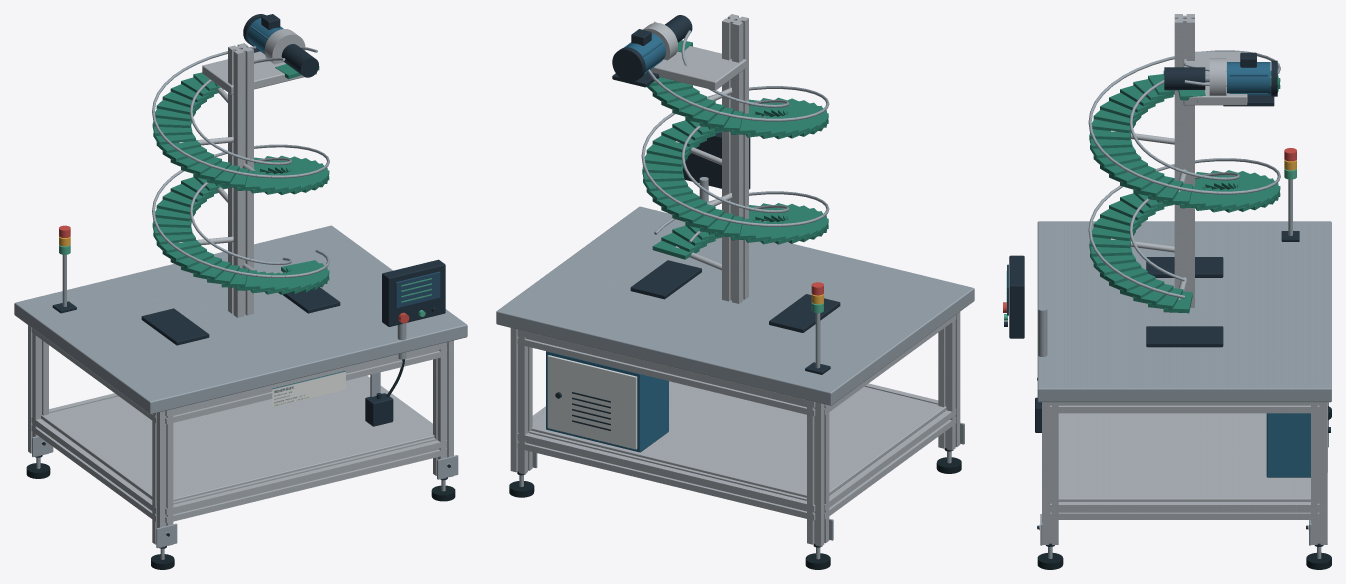
Rendered from spiral-conveyor-cell.glb.
3 renders of one model, left to right at view 1: azimuth 30°, elevation 25°; view 2: azimuth 150°, elevation 25°; view 3: azimuth 270°, elevation 25°, orthographic. The views are drawn at different scales.
Visible parts, largest first — view 1: ClosedMachineBed_40, LowerShelf_41, SlottedExtrusion_34, SlottedExtrusion_71, SlottedExtrusion_35, SlottedExtrusion_11, SlottedExtrusion_36, SlottedExtrusion_27, ConsoleBack_52, SlottedExtrusion_3, OriginalNameplate_65, DriveBridge_311 (+7 smaller); view 2: ClosedMachineBed_40, LowerShelf_41, BackDoor_43, SlottedExtrusion_32, SlottedExtrusion_71, SlottedExtrusion_33, SlottedExtrusion_3, SlottedExtrusion_19, Cabinet_42, SlottedExtrusion_36, SlottedExtrusion_11, DriveBridge_311 (+6 smaller); view 3: ClosedMachineBed_40, LowerShelf_41, SlottedExtrusion_38, SlottedExtrusion_71, SlottedExtrusion_39, Cabinet_42, SlottedExtrusion_19, SlottedExtrusion_27, SpiralBaseFoot_73, DriveBridge_311, ConsoleBack_52, MotorBody_300 (+4 smaller).
Part boxes in pixels (x1,y1,x2,y2): ClosedMachineBed_40: [14, 225, 467, 414]; LowerShelf_41: [41, 377, 434, 501]; SlottedExtrusion_34: [165, 438, 447, 523]; SlottedExtrusion_71: [228, 43, 253, 317]; SlottedExtrusion_35: [165, 342, 447, 424]; SlottedExtrusion_11: [152, 409, 173, 547]; SlottedExtrusion_36: [31, 417, 156, 521]; SlottedExtrusion_27: [433, 340, 453, 479]; ConsoleBack_52: [382, 259, 445, 326]; SlottedExtrusion_3: [28, 325, 48, 456]; OriginalNameplate_65: [272, 370, 345, 407]; DriveBridge_311: [202, 51, 316, 94]; ClosedMachineBed_40: [496, 206, 974, 405]; LowerShelf_41: [531, 381, 946, 497]; BackDoor_43: [547, 355, 637, 449]; SlottedExtrusion_32: [517, 430, 815, 520]; SlottedExtrusion_71: [722, 14, 748, 303]; SlottedExtrusion_33: [517, 329, 815, 416]; SlottedExtrusion_3: [807, 400, 829, 546]; SlottedExtrusion_19: [510, 328, 532, 474]; Cabinet_42: [546, 351, 668, 452]; SlottedExtrusion_36: [824, 409, 956, 519]; SlottedExtrusion_11: [938, 312, 960, 450]; DriveBridge_311: [650, 46, 746, 90]; ClosedMachineBed_40: [1037, 221, 1331, 402]; LowerShelf_41: [1058, 413, 1310, 501]; SlottedExtrusion_38: [1050, 502, 1319, 519]; SlottedExtrusion_71: [1174, 14, 1194, 307]; SlottedExtrusion_39: [1050, 402, 1319, 413]; Cabinet_42: [1266, 413, 1310, 477]; SlottedExtrusion_19: [1311, 402, 1327, 544]; SlottedExtrusion_27: [1042, 402, 1058, 544]; SpiralBaseFoot_73: [1146, 326, 1223, 347]; DriveBridge_311: [1183, 51, 1247, 105]; ConsoleBack_52: [1009, 255, 1024, 338]; MotorBody_300: [1227, 62, 1270, 95].
Size of the model in its own units: 1.55 by 2.04 by 1.29.
12 materials, 3 textured.
